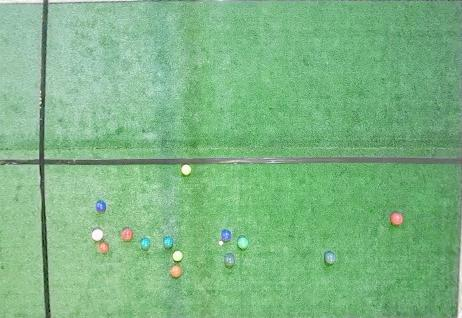blue: (96, 200, 106, 212), (221, 229, 231, 241)
green: (237, 237, 249, 249), (224, 254, 235, 266), (325, 252, 335, 265), (163, 237, 173, 248), (140, 238, 150, 249)
red: (390, 212, 403, 225), (121, 228, 133, 241), (91, 228, 103, 241), (98, 242, 110, 254), (170, 266, 182, 278)
vline: (1, 1, 53, 317), (453, 1, 461, 317)
white: (219, 241, 223, 245)
yellow: (181, 164, 192, 175), (172, 251, 183, 261)
